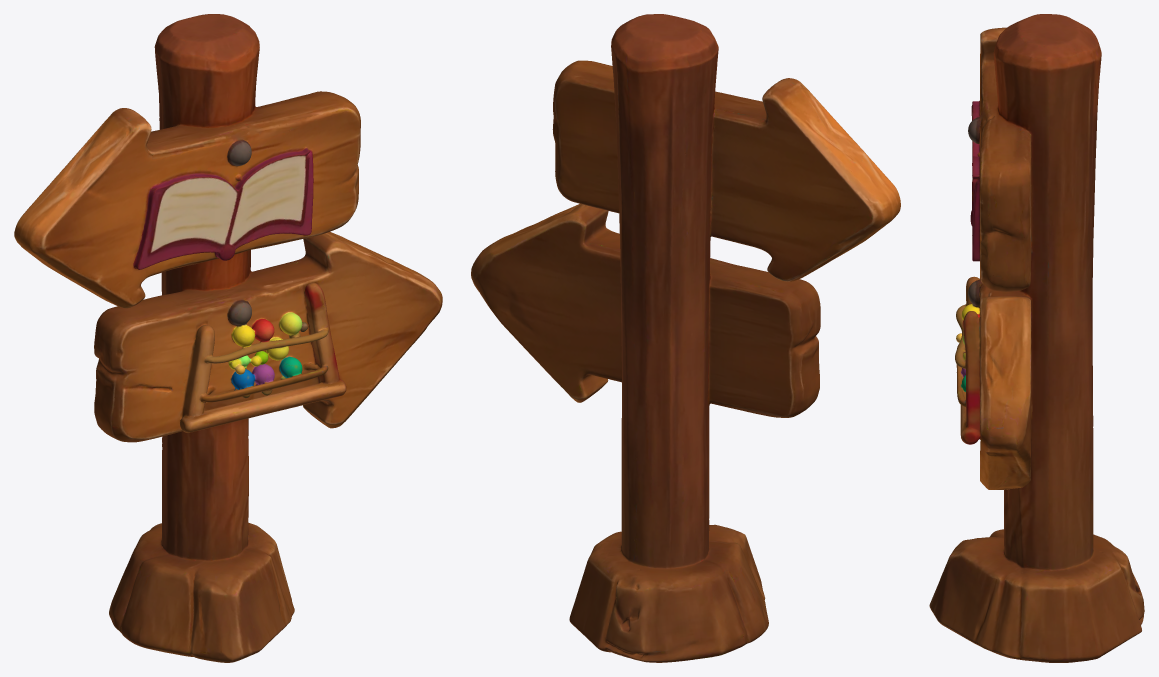
File: direction-signpost.glb
3 views of the same model, side by side, from view 1: azimuth 30°, elevation 25°; view 2: azimuth 150°, elevation 25°; view 3: azimuth 270°, elevation 25° (orthographic).
Bounding box in the file's own units: 0.7314 × 0.9944 × 0.3233.
1 material, 1 textured.
